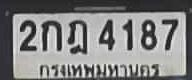1: (122, 18, 132, 50)
2: (19, 18, 36, 50)
4: (98, 18, 114, 50)
7: (161, 18, 177, 50)
8: (140, 18, 156, 49)
A01: (41, 19, 61, 50)
A14: (67, 18, 87, 54)
BKK: (35, 60, 161, 80)
